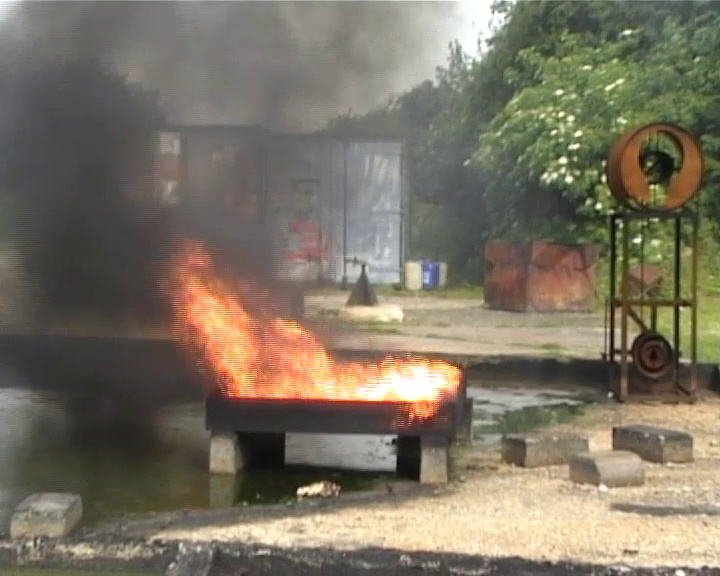fire: (163, 240, 461, 400)
